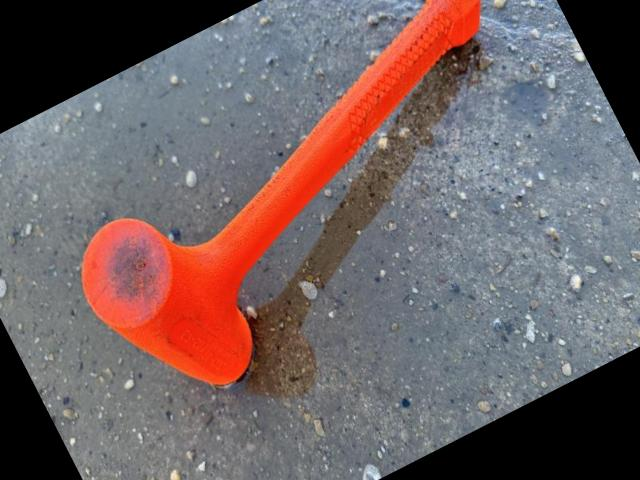hammer: (25, 0, 586, 426)
